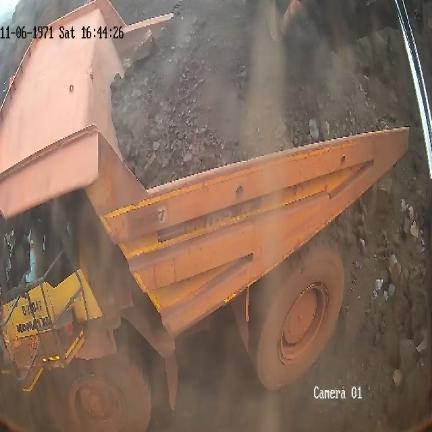pile: (109, 1, 387, 189), (338, 135, 431, 432)
